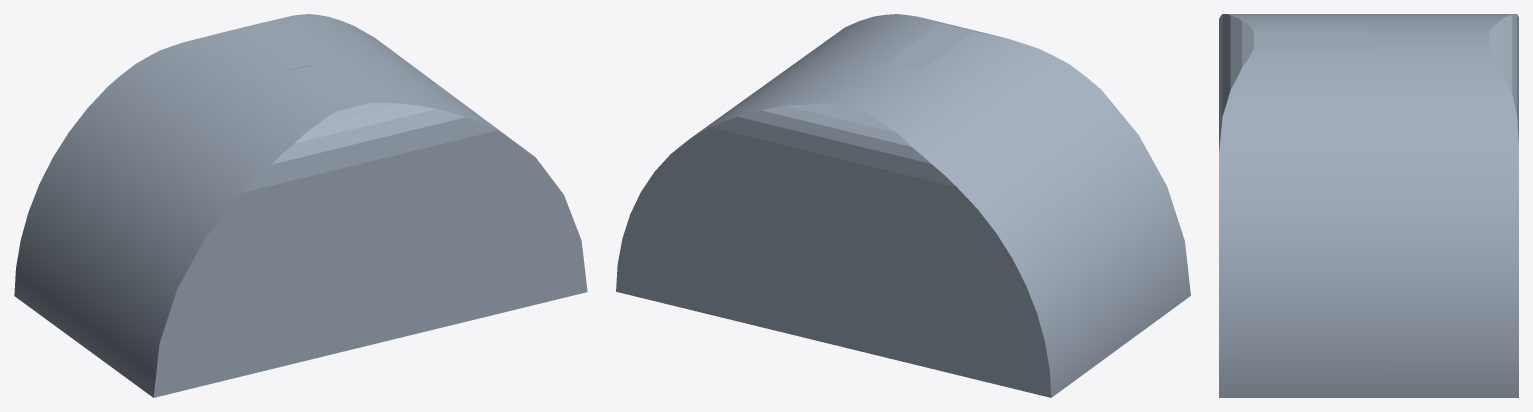
Rendered from genericchassis.obj.
3 renders of one model, left to right at view 1: azimuth 30°, elevation 25°; view 2: azimuth 150°, elevation 25°; view 3: azimuth 270°, elevation 25°, orthographic. The views are drawn at different scales.
Parts seen in each view (by area): view 1: 1; view 2: 1; view 3: 1.
Boxes of the visible parts, x1,y1,x2,y2 form: 1: [14, 14, 587, 397]; 1: [616, 14, 1190, 397]; 1: [1219, 14, 1518, 397].
Size of the model in its own units: 0.9 by 0.45 by 0.5.
